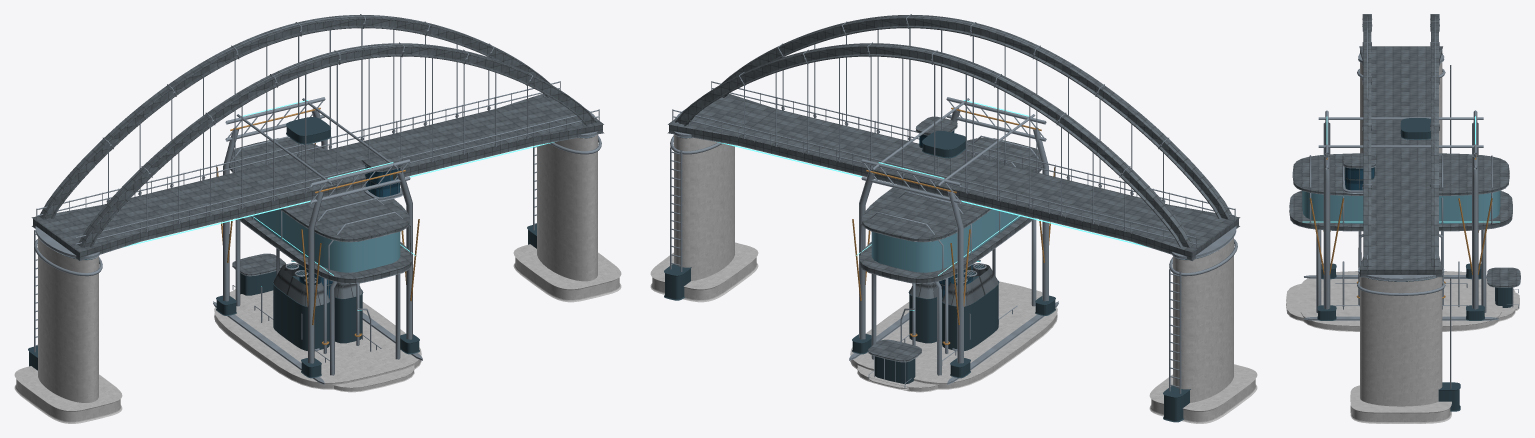
The model's file is city-services.glb.
3 views of the same model, side by side, from view 1: azimuth 30°, elevation 25°; view 2: azimuth 150°, elevation 25°; view 3: azimuth 270°, elevation 25° (orthographic). The views are drawn at different scales.
Visible parts, largest first — view 1: Lumen coated I-section arch.002, Lumen pier foundation.002, Arch splice pin head.028, Cantilever transfer deck.001, Dock crane foundation.001, Box truss lower chord.002, Open glazed access tube.001, Recessed exchanger housing.002, Branching engineered pier.004, Gantry wheel cover.004, Faceted thermal hood.002, Gantry bridge length.002 (+5 smaller); view 2: Lumen coated I-section arch.002, Lumen pier foundation.002, Arch splice pin head.028, Cantilever transfer deck.001, Box truss lower chord.002, Dock crane foundation.001, Open glazed access tube.001, Recessed exchanger housing.002, Branching engineered pier.004, Gantry wheel cover.004, Lumen bridge service hatch.002, Faceted thermal hood.002 (+5 smaller); view 3: Lumen coated I-section arch.002, Lumen pier foundation.002, Cantilever transfer deck.001, Dock crane foundation.001, Box truss lower chord.002, Open glazed access tube.001, Arch splice pin head.028, Branching engineered pier.004, Gantry wheel cover.004, Layered entry granite sill.001, Gantry bridge length.002, Lumen bridge service hatch.002 (+5 smaller).
Boxes of the visible parts, x1,y1,x2,y2 form: Lumen coated I-section arch.002: (31, 15, 604, 261); Lumen pier foundation.002: (14, 134, 621, 423); Arch splice pin head.028: (34, 14, 601, 352); Cantilever transfer deck.001: (229, 138, 412, 283); Dock crane foundation.001: (214, 290, 421, 389); Box truss lower chord.002: (213, 97, 422, 384); Open glazed access tube.001: (250, 208, 400, 272); Recessed exchanger housing.002: (272, 265, 363, 350); Branching engineered pier.004: (232, 136, 411, 375); Gantry wheel cover.004: (216, 117, 419, 378); Faceted thermal hood.002: (273, 263, 362, 306); Gantry bridge length.002: (216, 107, 419, 324); Lumen coated I-section arch.002: (667, 15, 1240, 261); Lumen pier foundation.002: (650, 134, 1257, 423); Arch splice pin head.028: (670, 14, 1237, 393); Cantilever transfer deck.001: (859, 138, 1042, 362); Box truss lower chord.002: (849, 97, 1058, 384); Dock crane foundation.001: (850, 286, 1057, 389); Open glazed access tube.001: (871, 208, 1021, 272); Recessed exchanger housing.002: (908, 265, 999, 350); Branching engineered pier.004: (860, 135, 1038, 387); Gantry wheel cover.004: (852, 130, 1055, 378); Lumen bridge service hatch.002: (664, 136, 1212, 422); Faceted thermal hood.002: (909, 263, 998, 306); Lumen coated I-section arch.002: (1359, 14, 1442, 277); Lumen pier foundation.002: (1350, 62, 1451, 423); Cantilever transfer deck.001: (1289, 153, 1520, 287); Dock crane foundation.001: (1299, 271, 1502, 331); Box truss lower chord.002: (1303, 110, 1498, 320); Open glazed access tube.001: (1302, 191, 1500, 223); Arch splice pin head.028: (1357, 14, 1451, 388); Branching engineered pier.004: (1309, 155, 1518, 312); Gantry wheel cover.004: (1317, 118, 1484, 320); Layered entry granite sill.001: (1286, 283, 1519, 321); Gantry bridge length.002: (1309, 155, 1492, 274); Lumen bridge service hatch.002: (1366, 277, 1460, 411).
Size of the model in its own units: 69.36 by 35.12 by 28.49.
9 materials, 4 textured.
